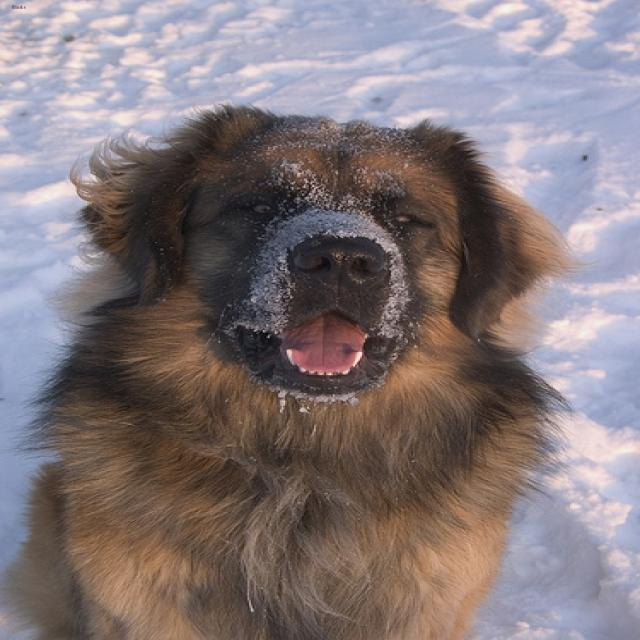dog-leonberger: (2, 91, 589, 637)
